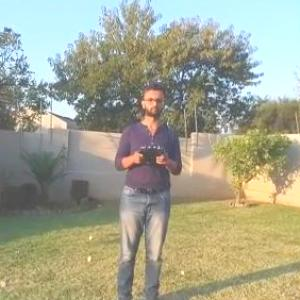follow: (106, 80, 188, 299)
